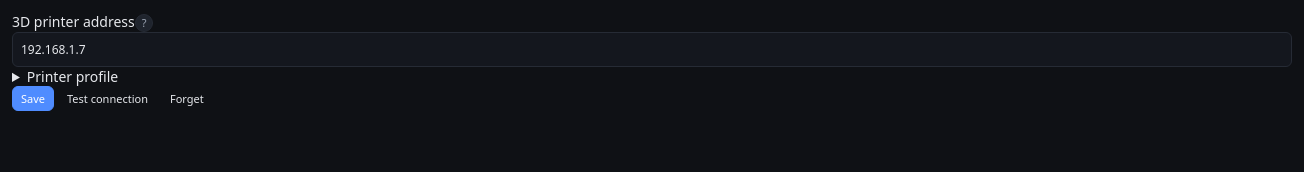
Test: PrinterSettings › the printer address › forgets a saved address
Click the button "Forget" at (187, 98), box [161,86,213,110]
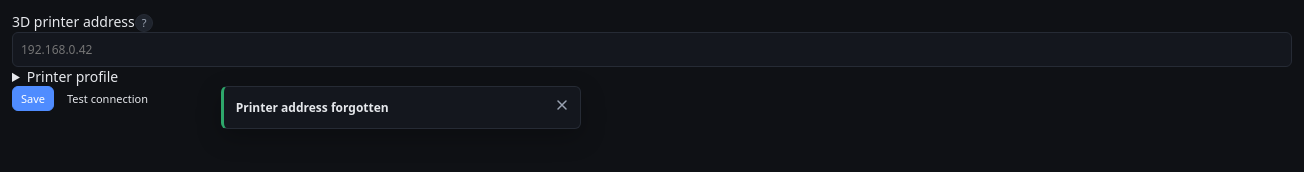
Now the field labelled "3D printer address" is empty, box [12,32,1292,66]
Now the button "Forget" is gone
